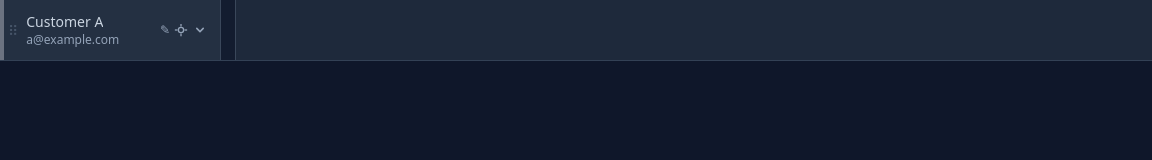
Test case: SwimlaneRow › clicking the swimlane name shows a rename input when isAdmin
The width and height of the screenshot is (1152, 160).
Click the button "Customer A" at (65, 22), box [26,12,103,32]
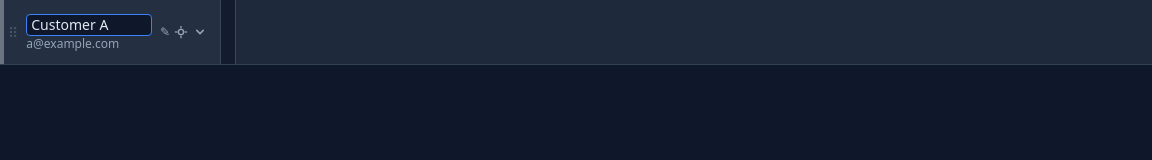
Check: the field holds "Customer A", box [26,14,152,36]
